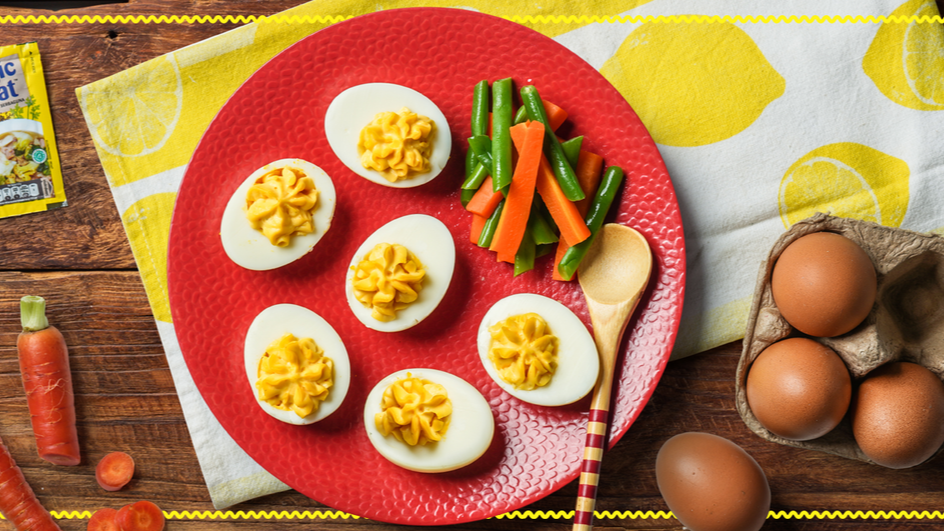Telur: (181, 155, 318, 305), (322, 216, 468, 345), (239, 301, 365, 442), (333, 67, 444, 197), (358, 375, 484, 468), (489, 310, 609, 397)
